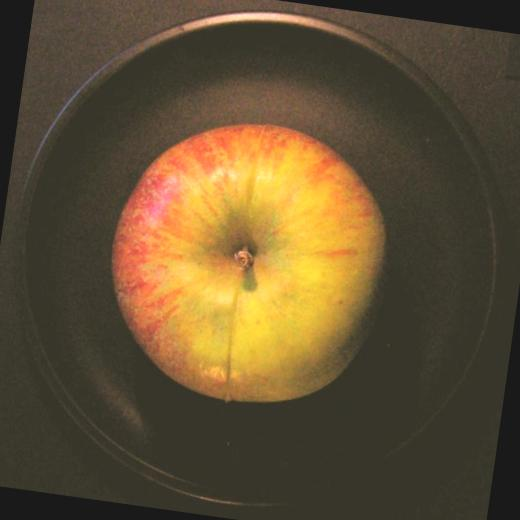Apple: (72, 93, 411, 420)
